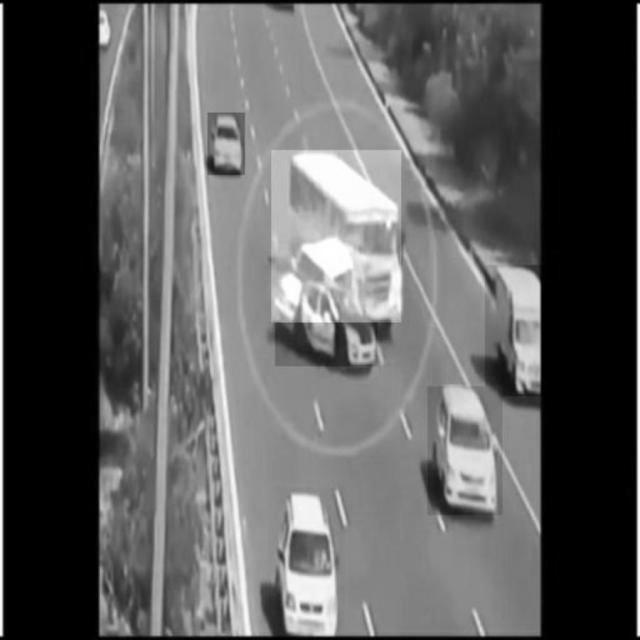accident: (272, 150, 402, 322), (275, 236, 378, 367)
vehicle: (269, 488, 343, 635), (427, 387, 503, 515), (485, 265, 557, 396), (207, 112, 245, 176)
